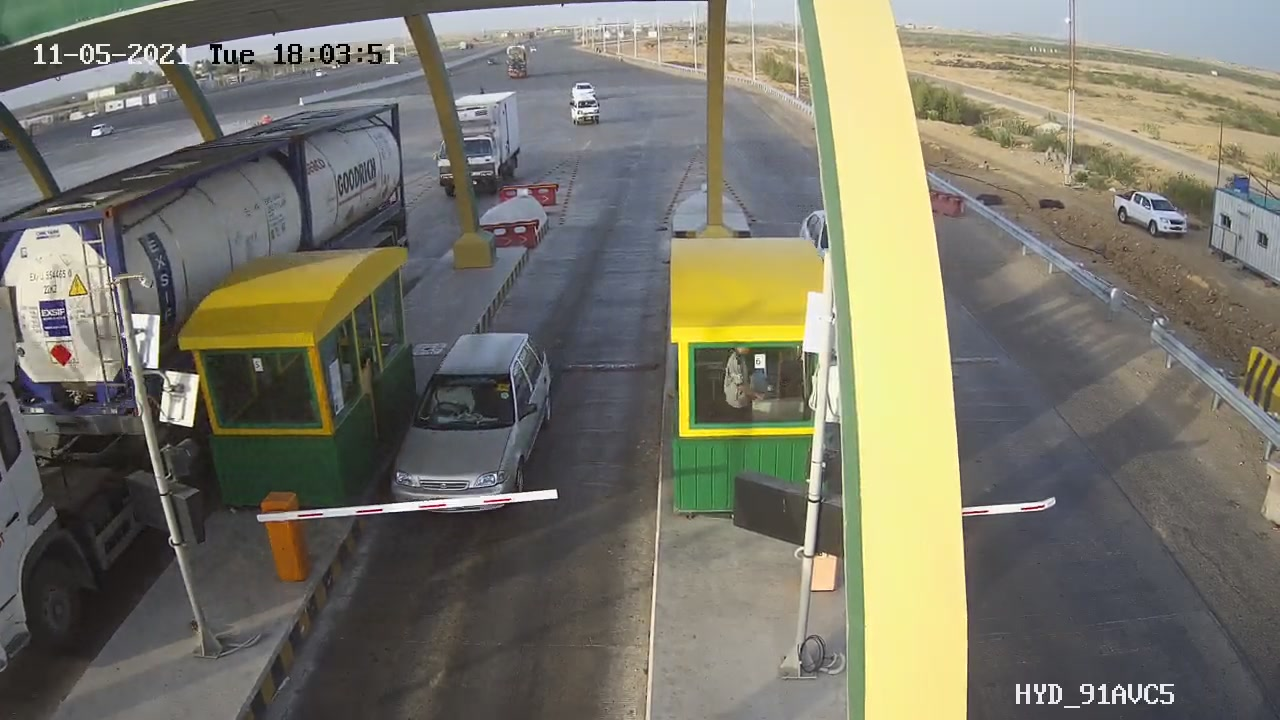F1: (376, 313, 574, 527)
